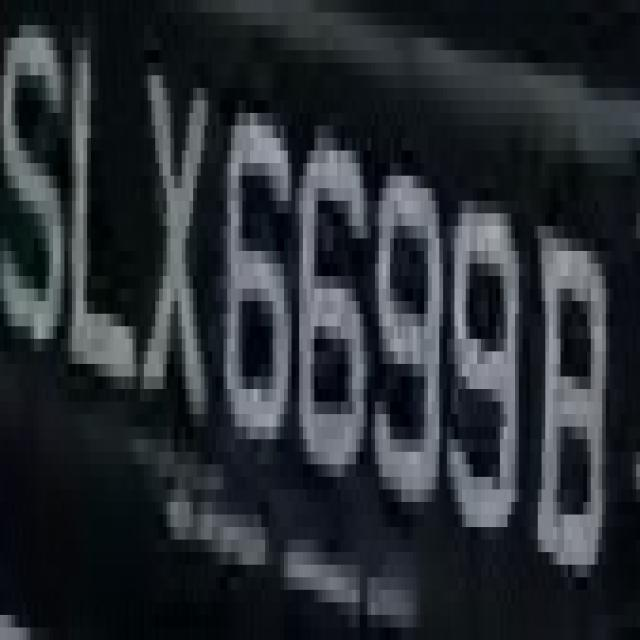6: (300, 63, 368, 502), (220, 100, 292, 452)
9: (371, 125, 451, 590), (454, 125, 522, 590)
B: (530, 188, 610, 602)
L: (72, 0, 144, 402)
S: (0, 12, 68, 402)
X: (140, 12, 220, 464)
